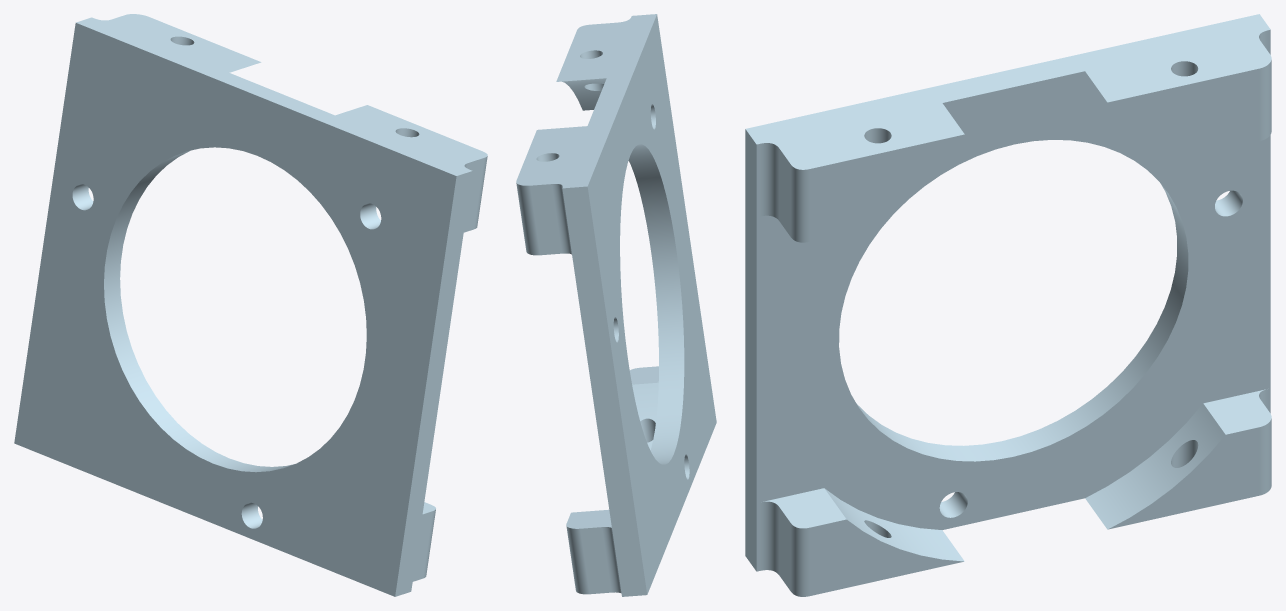
File: Robot_Master Copy 1 - Part 1 (54).gltf
3 renders of one model, left to right at view 1: azimuth 30°, elevation 25°; view 2: azimuth 150°, elevation 25°; view 3: azimuth 270°, elevation 25°, orthographic. The views are drawn at different scales.
Parts seen in each view (by area): view 1: Part 1; view 2: Part 1; view 3: Part 1.
Boxes of the visible parts, <box> form: Part 1: <box>14,14,487,596</box>; Part 1: <box>516,14,716,596</box>; Part 1: <box>745,14,1271,596</box>.
Bounding box in the file's own units: 0.0354 × 0.0549 × 0.0523.
